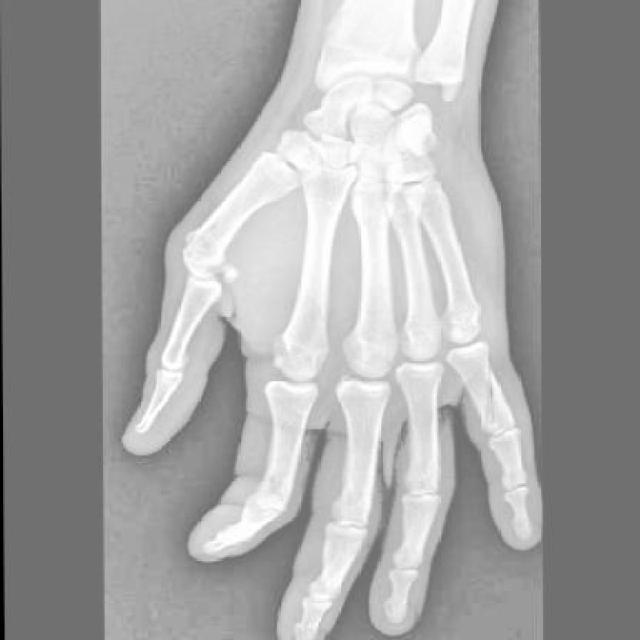Fracture: (464, 359, 506, 436)
